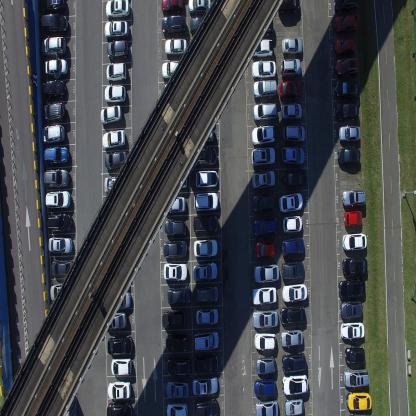car: (281, 373, 309, 395), (40, 13, 69, 34), (193, 328, 220, 350), (43, 167, 70, 189), (252, 261, 280, 282), (281, 352, 307, 374), (192, 259, 218, 281), (250, 124, 276, 146), (281, 282, 308, 303), (250, 284, 277, 305), (339, 279, 366, 300), (193, 212, 218, 234), (342, 256, 367, 278), (278, 191, 303, 213), (251, 168, 276, 190), (280, 145, 305, 167), (252, 102, 277, 124), (161, 14, 186, 36), (41, 101, 66, 123), (334, 13, 360, 34), (106, 38, 129, 61), (281, 235, 305, 257), (252, 192, 276, 214), (251, 145, 275, 167), (278, 78, 302, 100), (252, 215, 277, 236), (252, 79, 277, 100), (346, 392, 372, 412), (192, 374, 218, 394), (166, 284, 192, 304), (162, 260, 188, 280), (252, 308, 278, 328), (107, 334, 133, 354), (46, 212, 72, 232), (161, 59, 184, 81), (104, 149, 127, 171), (280, 327, 304, 348), (103, 309, 127, 330), (284, 168, 308, 189), (335, 56, 359, 77), (41, 124, 65, 145), (193, 236, 218, 256), (163, 236, 188, 256), (194, 352, 219, 372), (342, 232, 367, 252), (335, 79, 360, 99), (42, 78, 67, 98), (50, 258, 75, 278), (193, 191, 219, 210), (280, 306, 306, 325), (103, 19, 129, 38), (104, 0, 130, 19), (45, 190, 71, 209), (47, 235, 73, 254), (163, 193, 186, 214), (102, 127, 125, 148), (165, 378, 189, 398), (161, 308, 185, 328), (107, 379, 131, 399), (281, 260, 305, 280), (342, 188, 366, 208), (164, 36, 188, 56), (189, 16, 213, 36), (250, 38, 274, 58), (166, 356, 191, 375), (107, 289, 132, 308), (251, 60, 276, 79), (103, 175, 128, 194), (41, 36, 66, 55), (43, 146, 69, 164), (338, 147, 360, 168), (100, 104, 122, 125), (104, 83, 126, 104), (340, 301, 363, 321), (195, 168, 218, 188), (195, 283, 218, 303), (194, 146, 217, 166), (44, 58, 68, 77), (49, 283, 73, 302), (163, 172, 187, 191), (344, 370, 369, 388), (340, 322, 365, 340), (194, 397, 219, 415), (106, 61, 127, 82), (254, 377, 276, 397), (252, 16, 274, 36), (282, 36, 304, 56), (280, 57, 302, 77), (280, 101, 302, 121), (334, 36, 356, 56), (195, 305, 218, 324), (283, 124, 306, 143), (336, 102, 360, 120), (256, 354, 276, 375), (254, 331, 276, 350), (110, 357, 132, 376), (164, 217, 187, 235), (165, 332, 188, 350), (106, 400, 133, 415), (333, 0, 360, 15), (255, 239, 275, 259), (344, 347, 366, 365), (338, 124, 360, 142), (255, 399, 279, 415), (282, 214, 302, 233), (284, 396, 305, 414), (193, 126, 215, 143), (41, 0, 67, 14), (344, 210, 363, 229), (277, 0, 301, 15), (188, 0, 211, 15), (166, 401, 188, 415), (160, 0, 183, 13)
